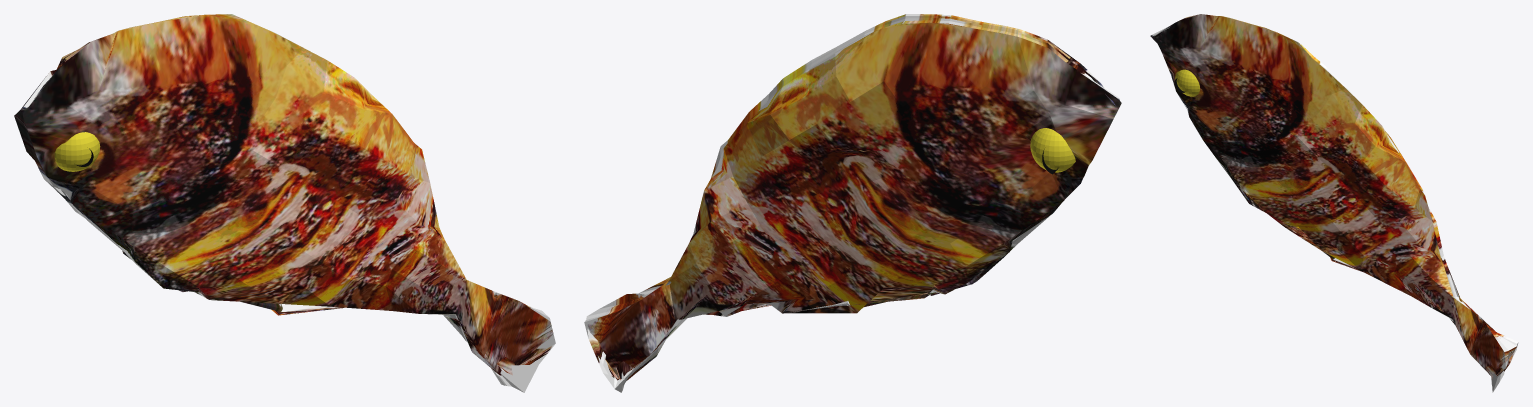
File: fishermansfriendfish.fbx
The picture shows the model from 3 angles, left to right: view 1: azimuth 30°, elevation 25°; view 2: azimuth 150°, elevation 25°; view 3: azimuth 330°, elevation 25°; orthographic projection. The views are drawn at different scales.
Parts seen in each view (by area): view 1: Cylinder.003; view 2: Cylinder.003; view 3: Cylinder.003.
Boxes of the visible parts, x1,y1,x2,y2 form: Cylinder.003: (14,14,555,392); Cylinder.003: (584,14,1121,392); Cylinder.003: (1150,14,1518,392).
Bounding box in the file's own units: 2182 × 1801 × 237.
Materials: 3 (1 with a texture image).
